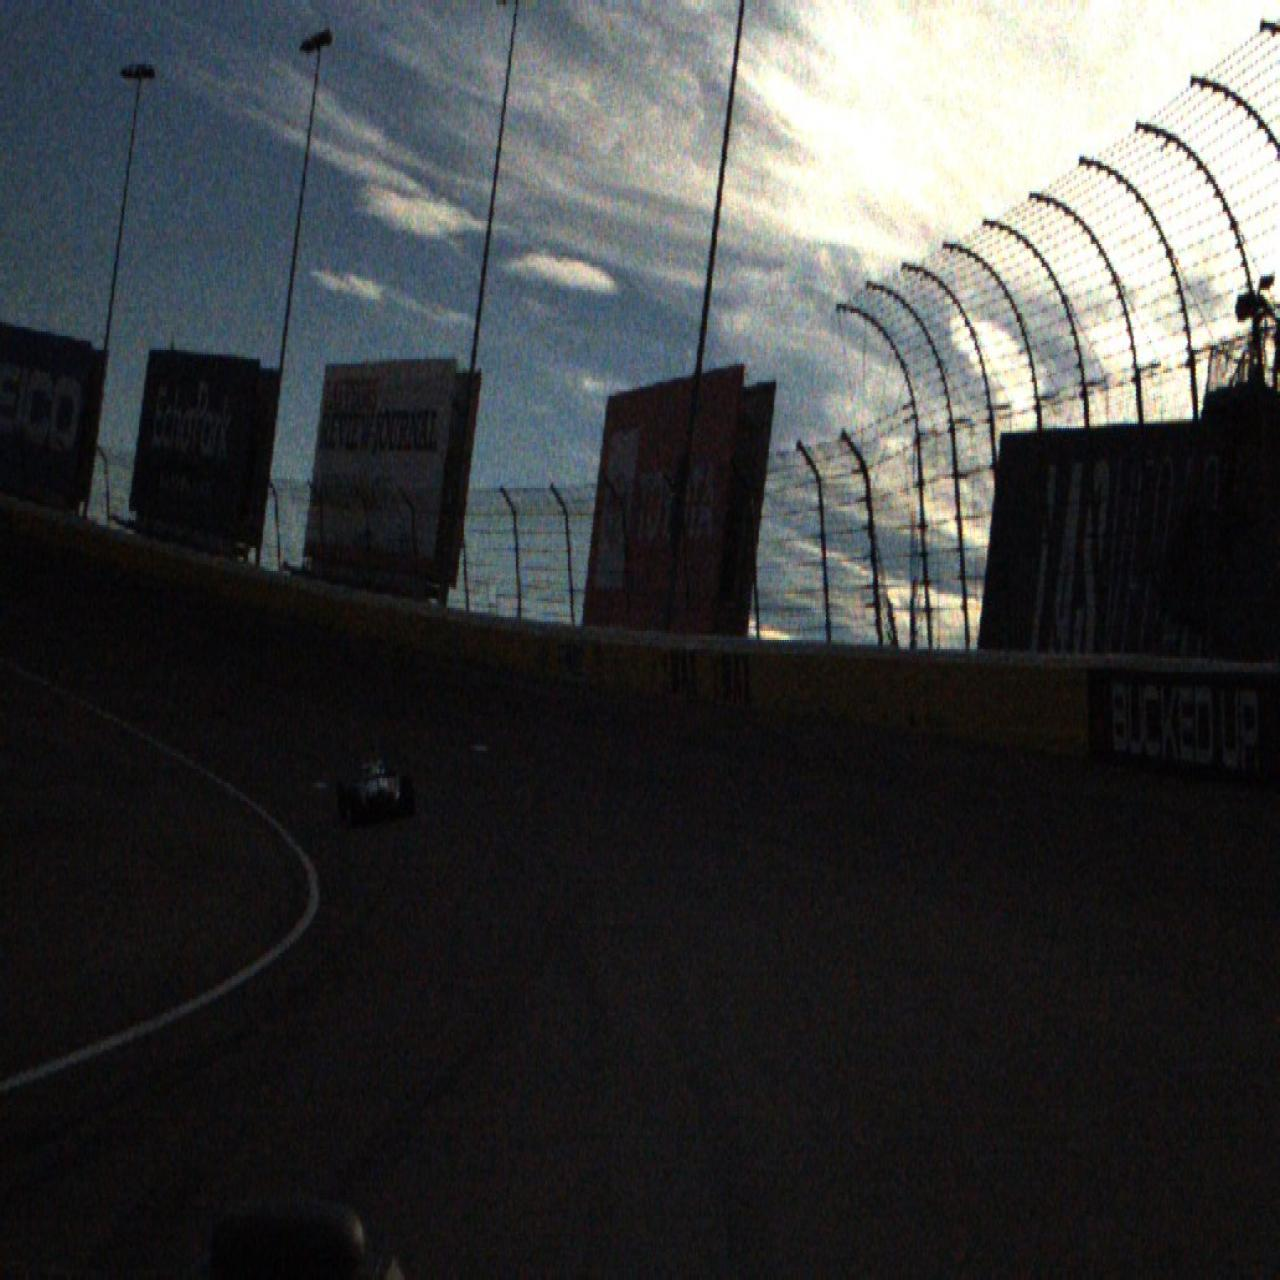AV: (335, 743, 413, 829)
